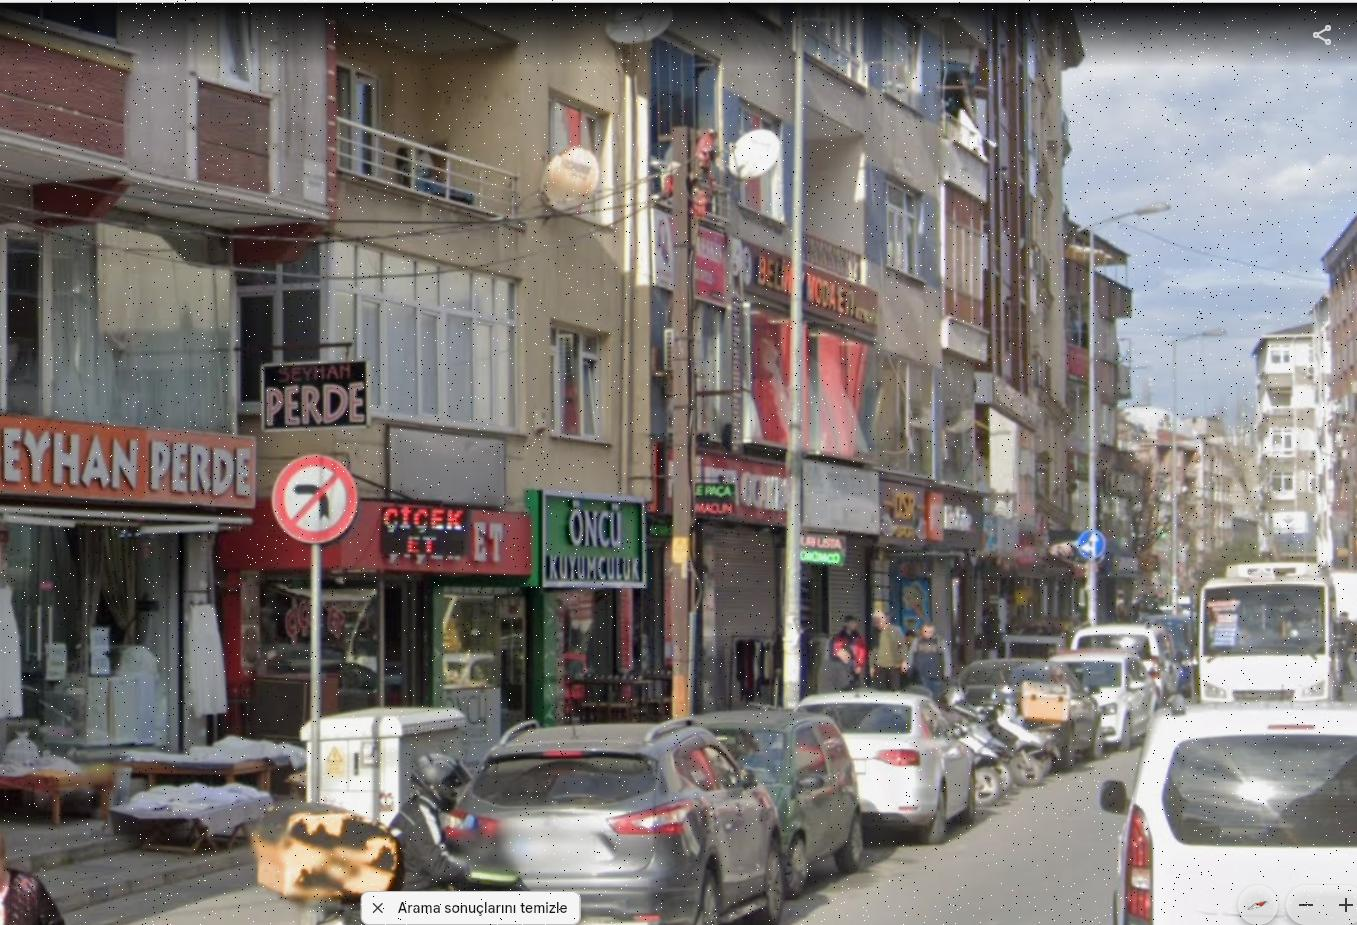leftturnsareforbidden: (275, 458, 355, 542)
